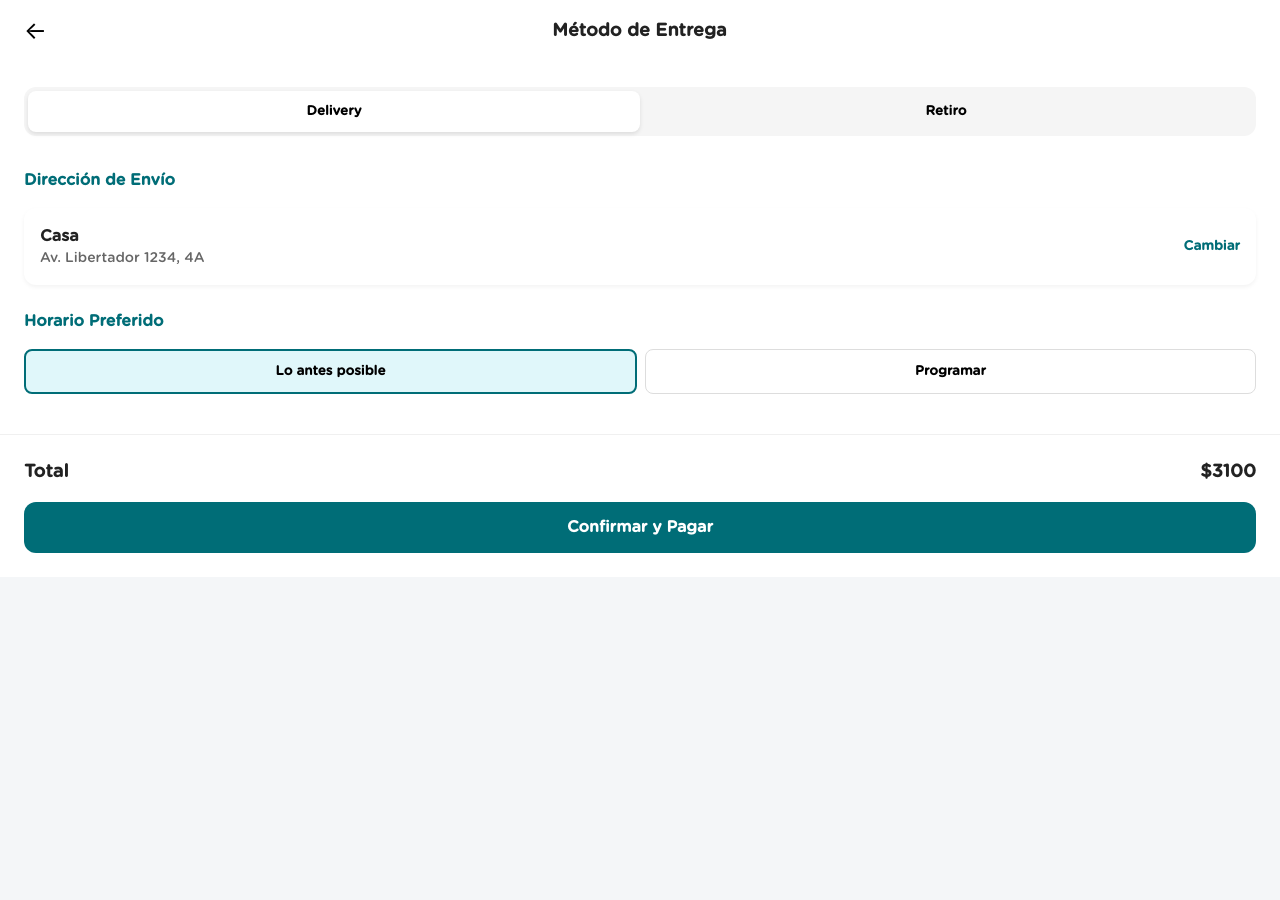
DeliveryMethod Component › opens address list
This screenshot has width=1280, height=900.
Click the button "Cambiar" at (1212, 246), box [1184,238,1240,255]
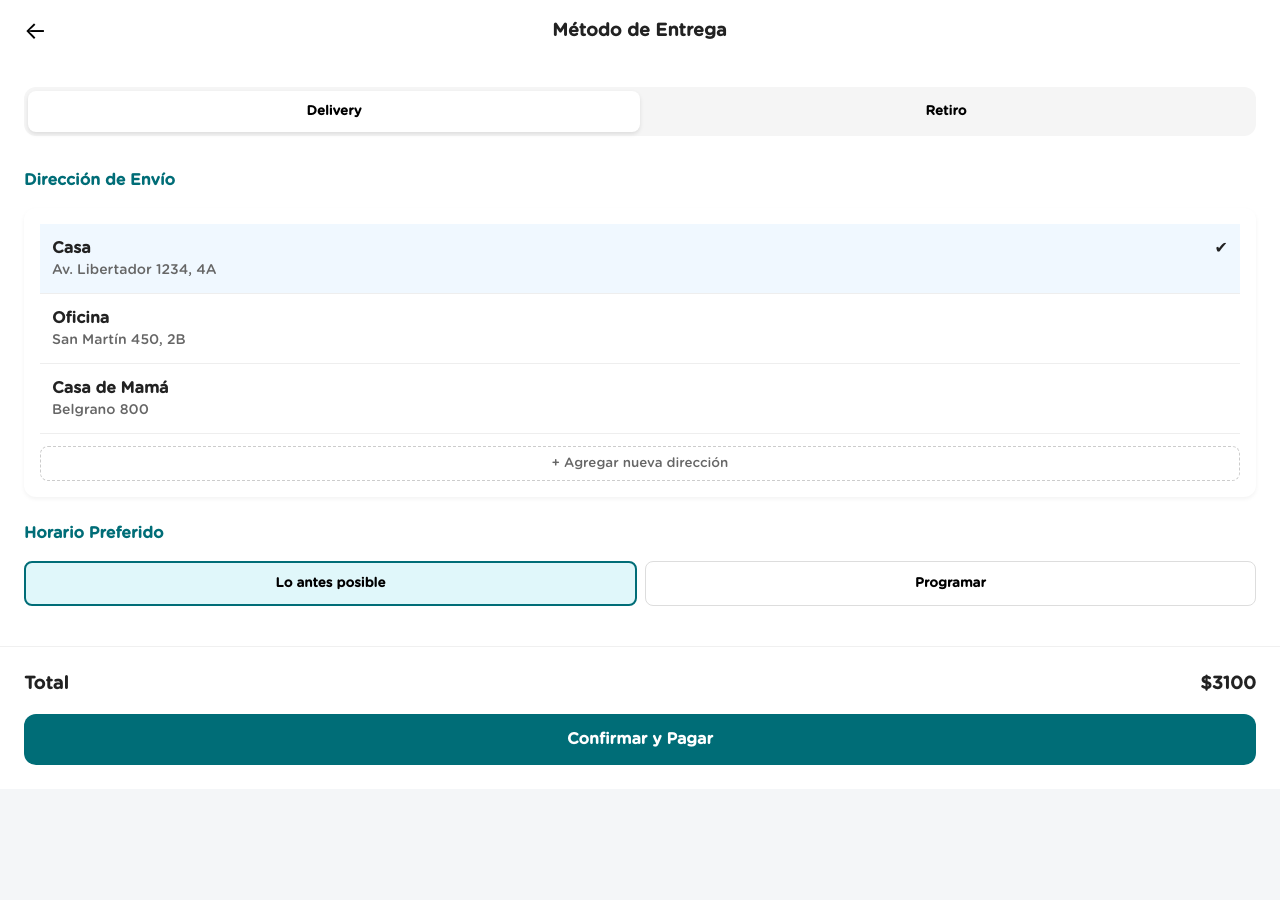
Result: the text "Casa de Mamá" is shown at [52,376,168,400]
